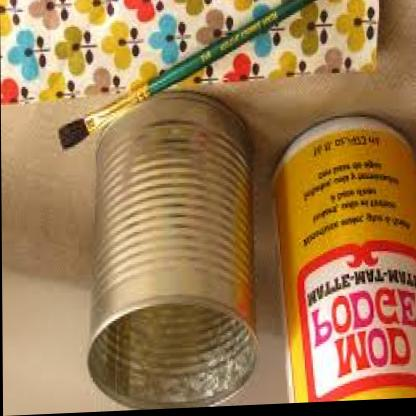Metal: (70, 82, 278, 412)
